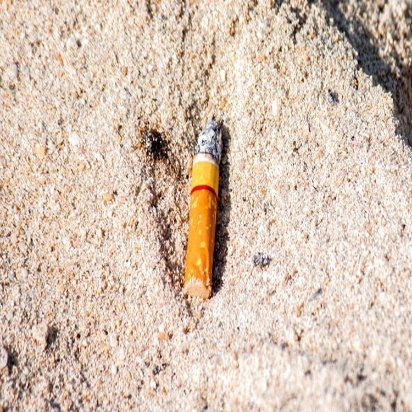cigarette: (178, 116, 231, 306)
